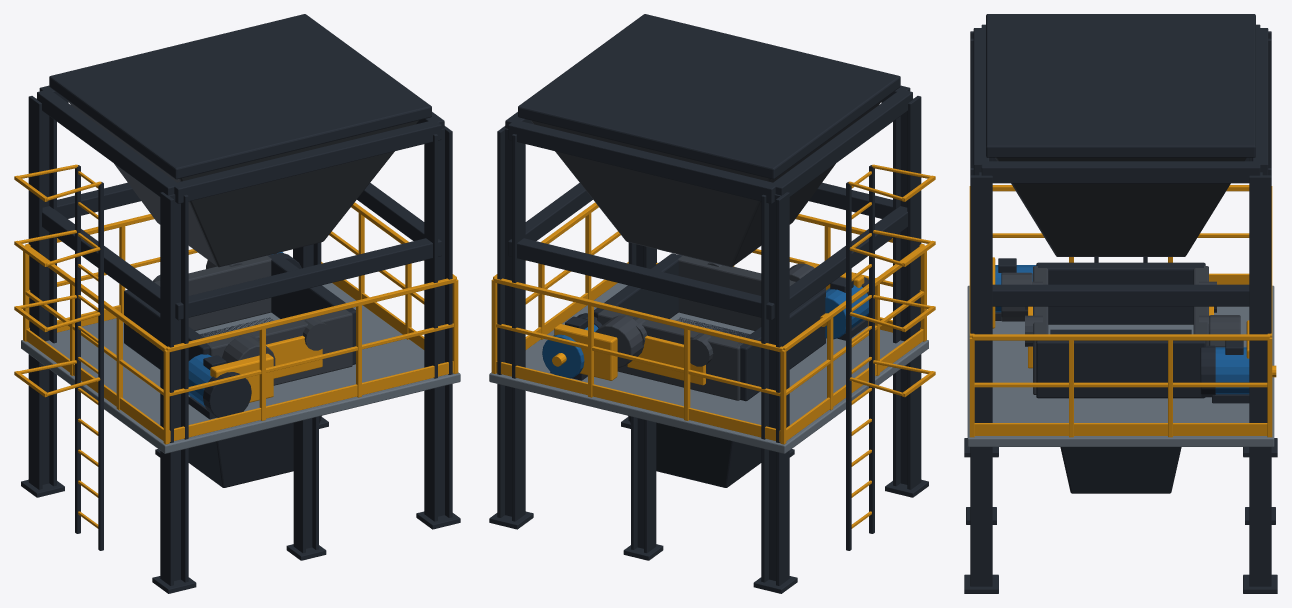
File: double_roll_crusher_drc101.glb
3 renders of one model, left to right at view 1: azimuth 30°, elevation 25°; view 2: azimuth 150°, elevation 25°; view 3: azimuth 270°, elevation 25°, orthographic. The views are drawn at different scales.
Parts seen in each view (by area): view 1: DRC101_HopperRim, DRC101_Platform_Deck, DRC101_SurgeHopper, DRC101_TopBeamS_4.1, DRC101_TopBeamS_2.9, DRC101_DischargeChute, DRC101_MainCol_2_FlangeF, DRC101_MainCol_3_FlangeF, DRC101_MainCol_1_FlangeF, DRC101_TopBeamW_4.1, DRC101_Platform_RailS_ToeBoard, DRC101_RollSideR (+33 smaller); view 2: DRC101_HopperRim, DRC101_SurgeHopper, DRC101_Platform_Deck, DRC101_TopBeamN_4.1, DRC101_TopBeamN_2.9, DRC101_DischargeChute, DRC101_MainCol_4_FlangeF, DRC101_MainCol_1_FlangeF, DRC101_MainCol_3_FlangeF, DRC101_TopBeamW_4.1, DRC101_Platform_RailN_ToeBoard, DRC101_RollSideR (+33 smaller); view 3: DRC101_HopperRim, DRC101_SurgeHopper, DRC101_Platform_Deck, DRC101_RollWallF, DRC101_MainCol_2_FlangeB, DRC101_MainCol_4_FlangeB, DRC101_RollWallB, DRC101_TopBeamE_4.1, DRC101_DischargeChute, DRC101_TopBeamE_2.9, DRC101_Platform_RailE_ToeBoard, DRC101_Platform_RailE_TopRail (+19 smaller).
Part boxes in pixels (x1,y1,x2,y2): DRC101_HopperRim: (49,14,431,179); DRC101_Platform_Deck: (21,283,460,453); DRC101_SurgeHopper: (67,100,418,267); DRC101_TopBeamS_4.1: (172,121,441,203); DRC101_TopBeamS_2.9: (175,238,441,320); DRC101_DischargeChute: (188,317,321,487); DRC101_MainCol_2_FlangeF: (424,134,437,521); DRC101_MainCol_3_FlangeF: (28,96,42,489); DRC101_MainCol_1_FlangeF: (160,192,173,585); DRC101_TopBeamW_4.1: (37,90,178,196); DRC101_Platform_RailS_ToeBoard: (169,361,453,441); DRC101_RollSideR: (154,254,271,330); DRC101_HopperRim: (518,14,900,179); DRC101_SurgeHopper: (531,100,882,267); DRC101_Platform_Deck: (489,283,928,453); DRC101_TopBeamN_4.1: (508,121,777,203); DRC101_TopBeamN_2.9: (508,238,774,320); DRC101_DischargeChute: (628,317,761,487); DRC101_MainCol_4_FlangeF: (512,134,525,521); DRC101_MainCol_1_FlangeF: (907,96,921,489); DRC101_MainCol_3_FlangeF: (776,192,789,585); DRC101_TopBeamW_4.1: (773,90,912,196); DRC101_Platform_RailN_ToeBoard: (496,361,780,441); DRC101_RollSideR: (597,309,743,400); DRC101_HopperRim: (986,14,1255,157); DRC101_SurgeHopper: (995,157,1246,256); DRC101_Platform_Deck: (967,285,1274,446); DRC101_RollWallF: (1036,340,1205,398); DRC101_MainCol_2_FlangeB: (970,175,992,586); DRC101_MainCol_4_FlangeB: (1249,175,1271,586); DRC101_RollWallB: (1036,262,1205,324); DRC101_TopBeamE_4.1: (981,161,1260,183); DRC101_DischargeChute: (1050,329,1191,493); DRC101_TopBeamE_2.9: (992,284,1249,306); DRC101_Platform_RailE_ToeBoard: (974,423,1267,435); DRC101_Platform_RailE_TopRail: (972,334,1269,340).
Bounding box in the file's own units: 3.94 × 4.34 × 2.81.
